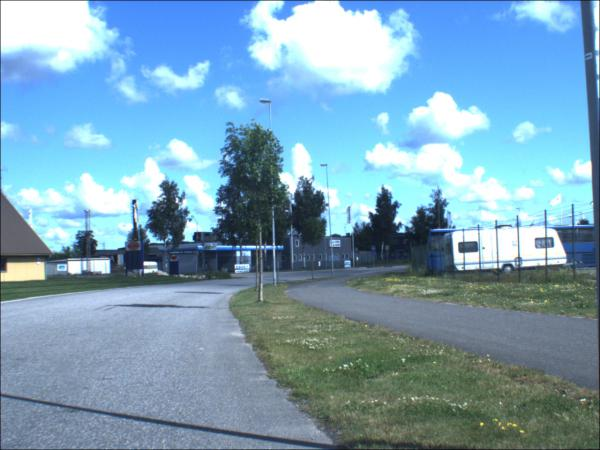PASS_RIGHT_SIDE: (373, 252, 378, 257)
PEDESTRIAN_CROSSING: (373, 247, 378, 252)
